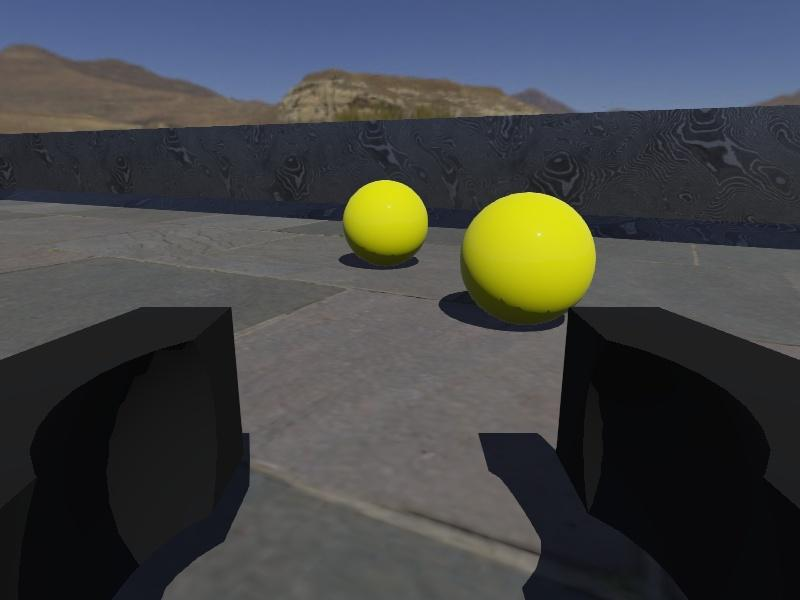yellow ball: (459, 192, 597, 327), (342, 180, 430, 270)
